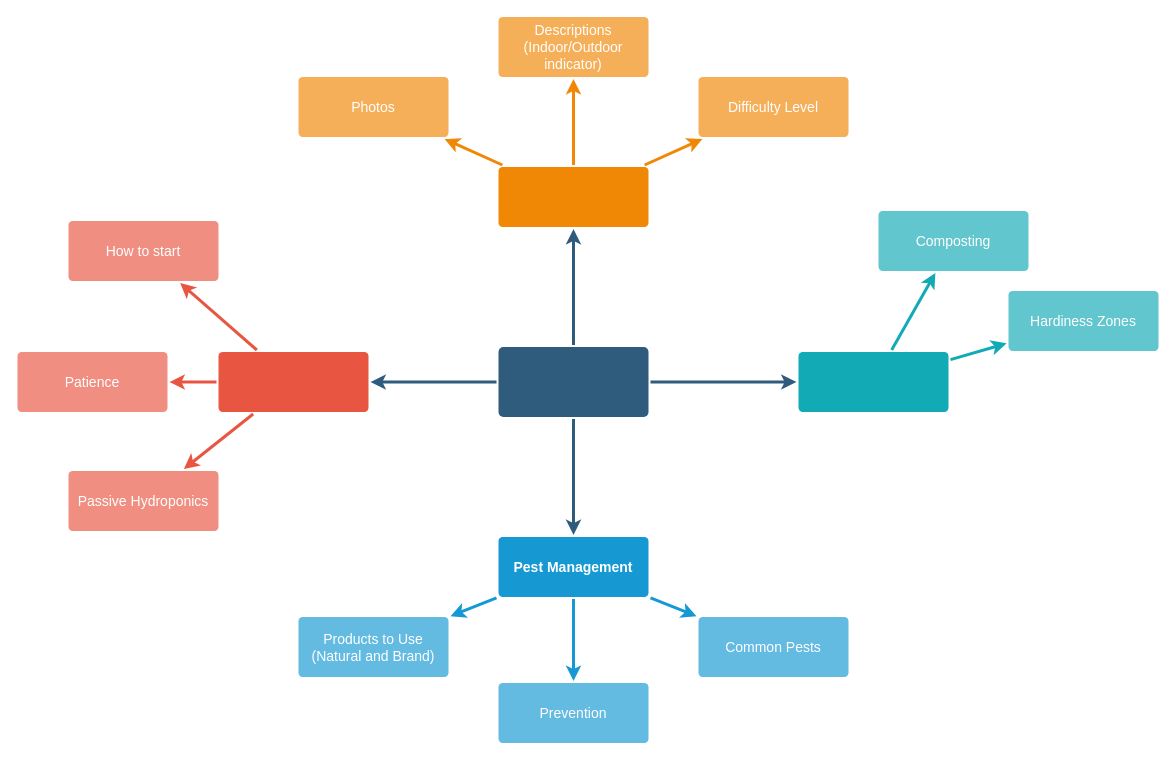
Image size: 1175x760. Some labels were removed from this diagram. The centre of each missing label's shape, as x and y in pixels:
"Choosing Plants" belongs at (x=573, y=196).
"Home Page" belongs at (x=573, y=381).
"Propagation" belongs at (x=293, y=382).
"Soil" belongs at (x=873, y=382).
